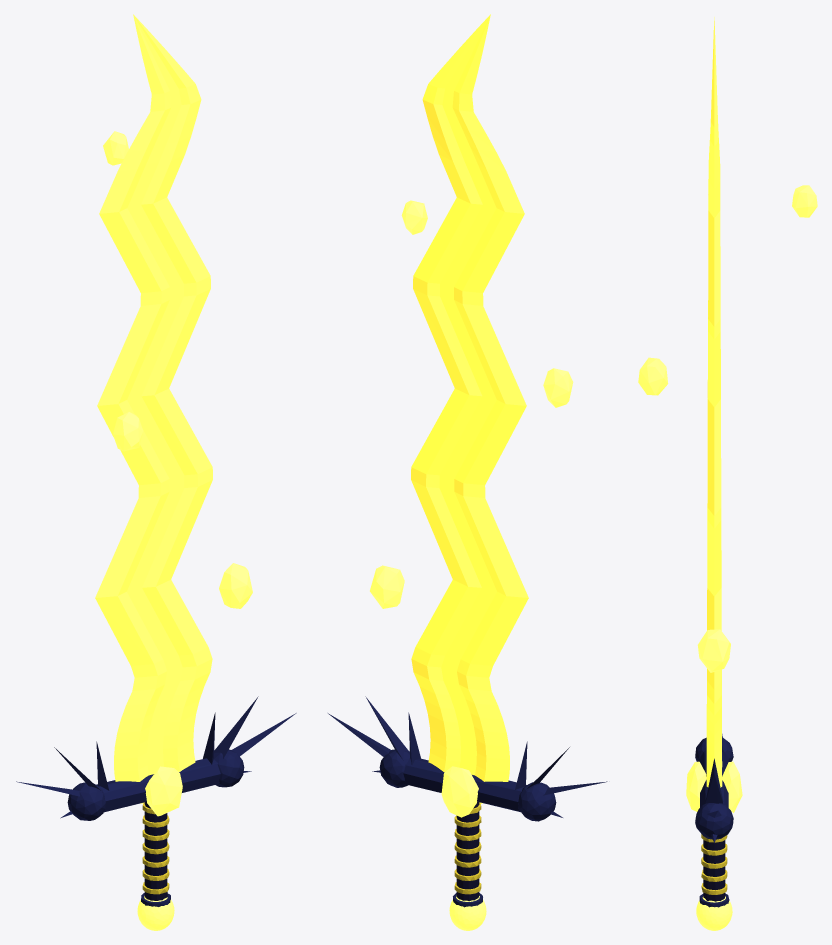
File: sword_8.glb
3 views of the same model, side by side, from view 1: azimuth 30°, elevation 25°; view 2: azimuth 150°, elevation 25°; view 3: azimuth 270°, elevation 25° (orthographic).
Visible parts, largest first — view 1: part_01, part_02, part_16, part_18, part_13, part_03, part_14, part_26, part_04, part_15; view 2: part_01, part_02, part_17, part_18, part_13, part_03, part_14, part_26, part_04, part_15; view 3: part_01, part_13, part_04, part_18, part_14, part_26, part_16, part_17, part_15, part_02.
Part boxes in pixels (x1,y1,x2,y2): part_01: [95, 14, 212, 781]; part_02: [96, 758, 220, 812]; part_16: [145, 766, 182, 816]; part_18: [144, 802, 167, 900]; part_13: [219, 563, 252, 608]; part_03: [67, 782, 105, 820]; part_14: [113, 412, 143, 451]; part_26: [137, 896, 174, 930]; part_04: [213, 749, 244, 787]; part_15: [103, 131, 128, 165]; part_01: [411, 14, 528, 781]; part_02: [403, 758, 526, 812]; part_17: [441, 766, 478, 817]; part_18: [456, 801, 479, 901]; part_13: [370, 565, 404, 608]; part_03: [518, 782, 556, 821]; part_14: [543, 368, 573, 407]; part_26: [449, 896, 486, 930]; part_04: [379, 749, 409, 787]; part_15: [401, 200, 427, 234]; part_01: [706, 17, 722, 787]; part_13: [697, 629, 730, 672]; part_04: [695, 803, 733, 839]; part_18: [703, 840, 725, 901]; part_14: [638, 357, 668, 395]; part_26: [696, 896, 732, 930]; part_16: [686, 761, 706, 811]; part_17: [722, 761, 742, 812]; part_15: [792, 185, 817, 217]; part_02: [700, 750, 728, 807].
Size of the model in its own units: 0.4952 by 1.54 by 0.2767.
